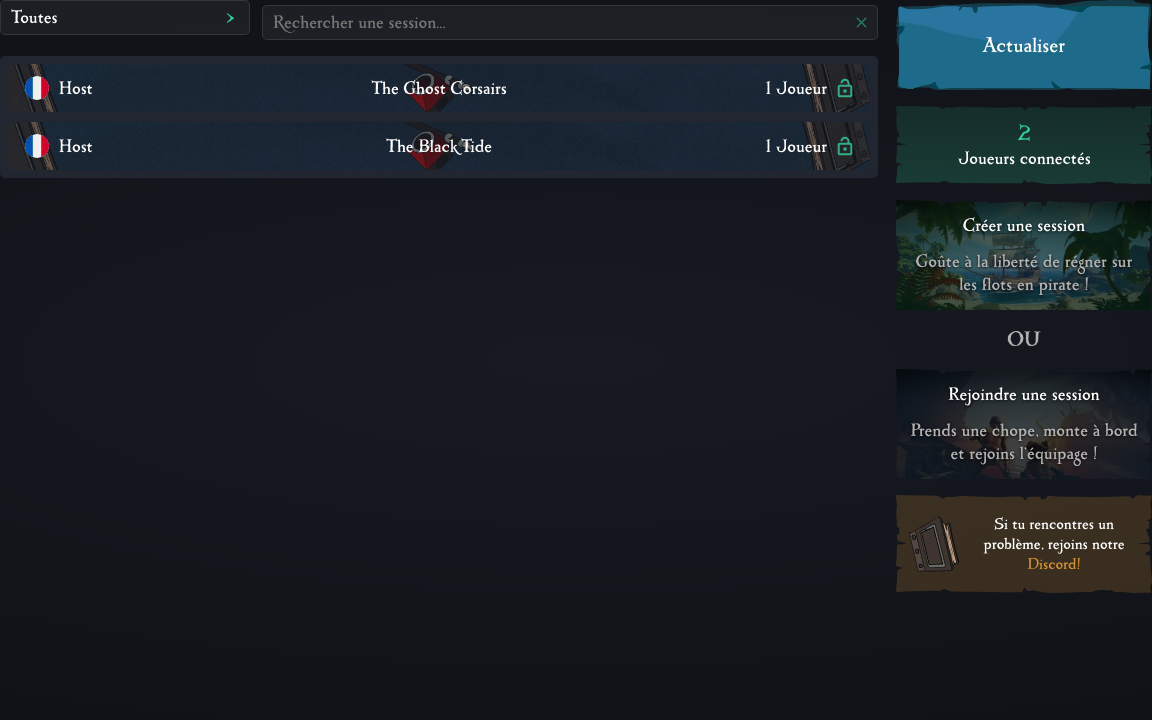
Test case: public sessions browser, against a fake backend › searches custom names too
Type "ghost" into the field with placeholder "Rechercher une session…" at x=558, y=22, box [273, 10, 844, 34]
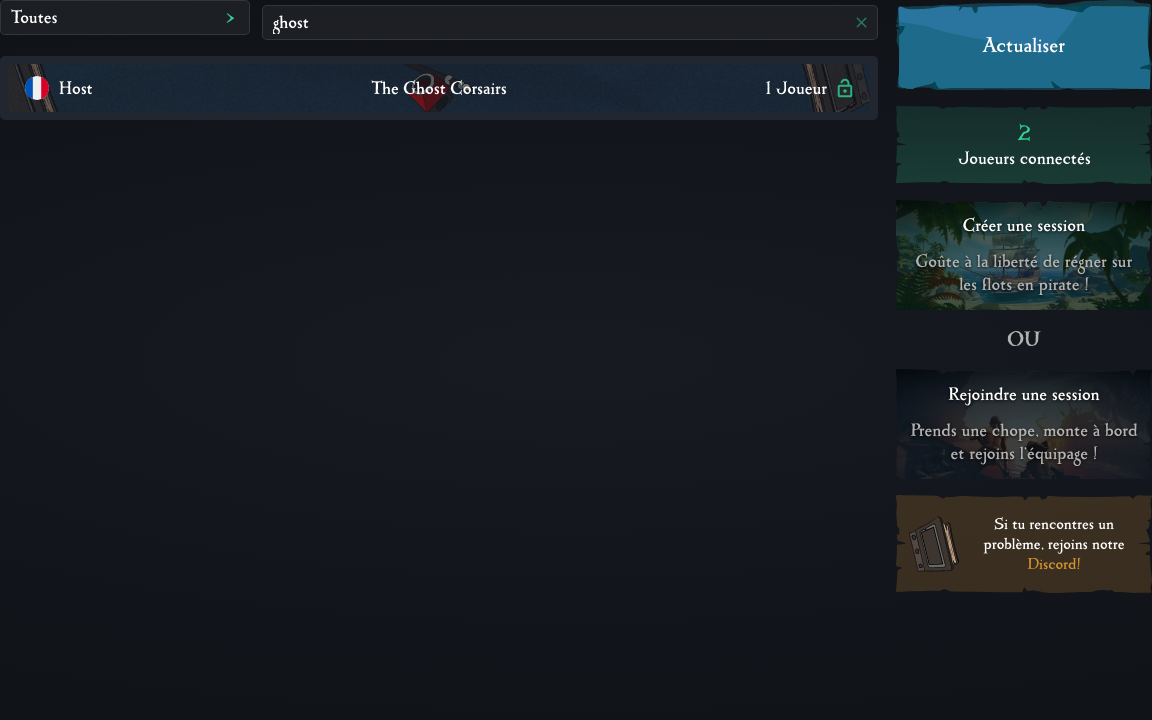
Expected: the text "The Ghost Corsairs" is shown, [371, 76, 507, 100]
Expected: the number of elements with class "session-row" is 1, [8, 64, 870, 112]
